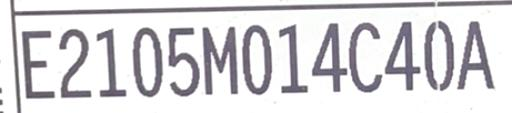letter: (458, 22, 500, 95), (200, 26, 238, 99), (310, 20, 346, 95), (92, 28, 130, 99), (18, 28, 56, 99), (350, 19, 384, 96), (240, 25, 276, 96), (164, 26, 200, 97), (57, 28, 91, 97), (388, 21, 420, 94), (276, 23, 308, 94), (131, 25, 163, 96), (424, 22, 454, 91)
